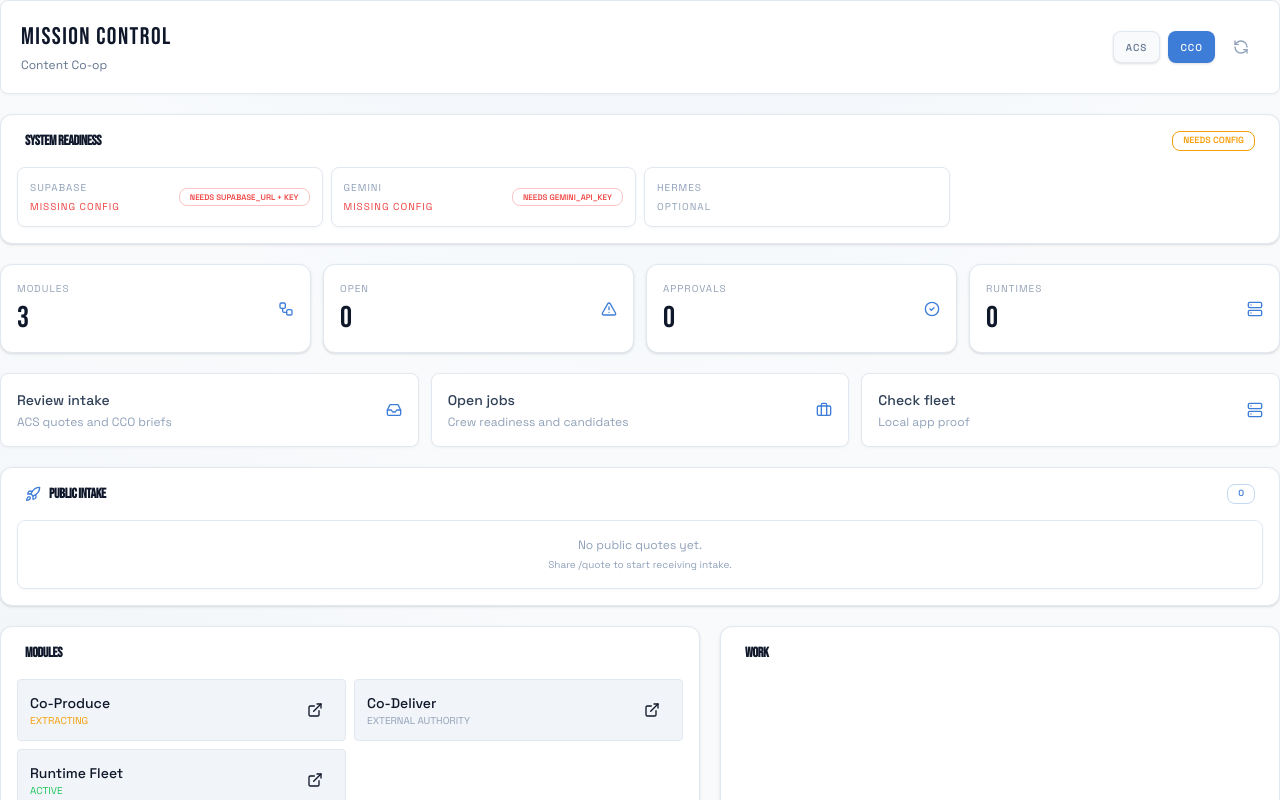
Test: Dashboard navigation › launches modules through router navigation
Check: the text "Co-Deliver" is shown, box [367,694,436,712]
Click the button titled "Open Co-Deliver".
click(652, 710)  # box [634,692,670,728]
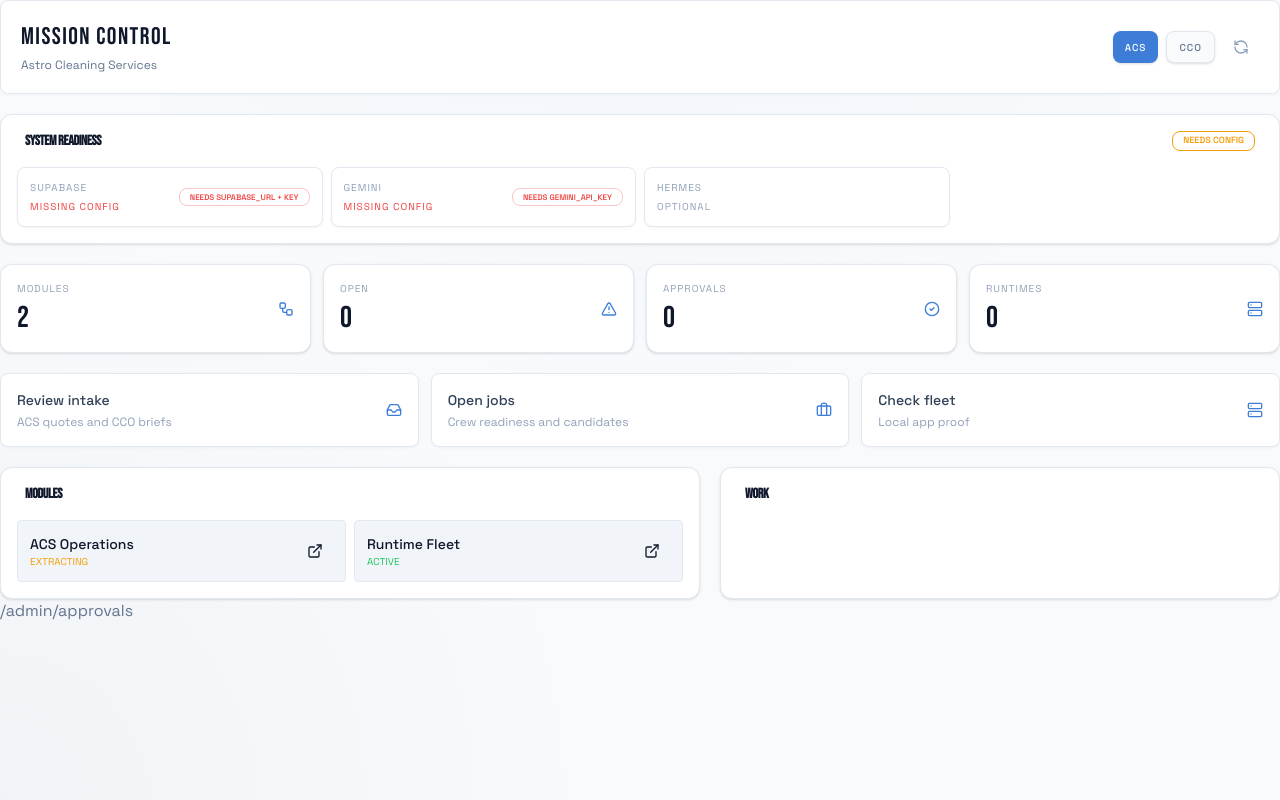
Check: the text named "current route" reads "/admin/approvals", box [0,600,133,621]
